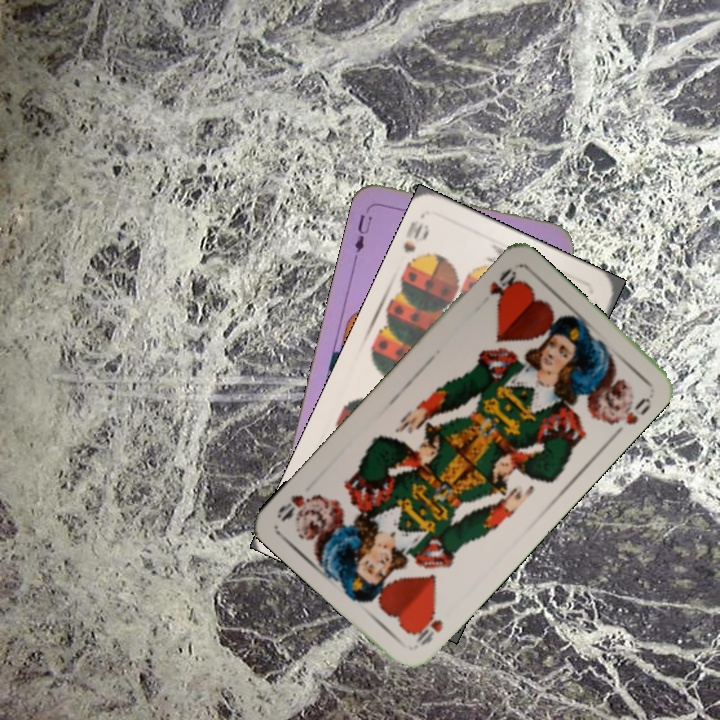EU: (350, 202, 375, 260)
HO: (408, 603, 446, 649), (485, 263, 519, 299)
S10: (398, 216, 432, 271)
